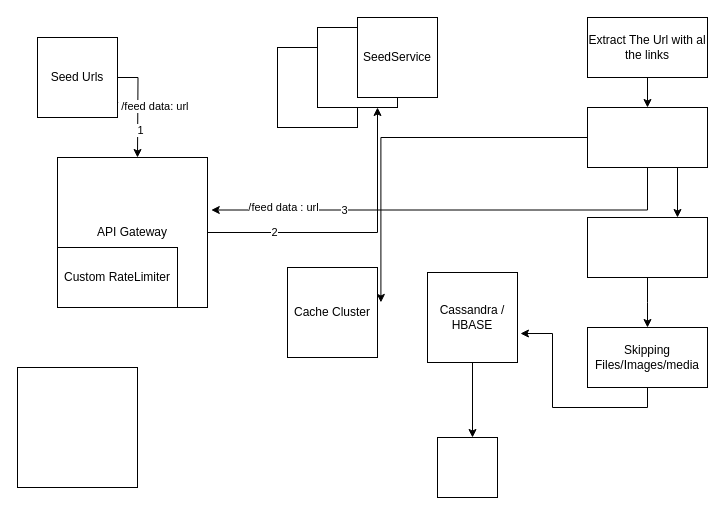
This 725x515 diagram has some shape labels left out. The shapes that lost their labels are listed below. From the top down, each one's box as (x1, y1, x2, y2) in pixels, then its label:
(586, 106, 708, 168): Collect these links
(586, 216, 708, 278): Parse Link
(16, 366, 138, 488): Preference List
(436, 436, 498, 498): Archive in S3
